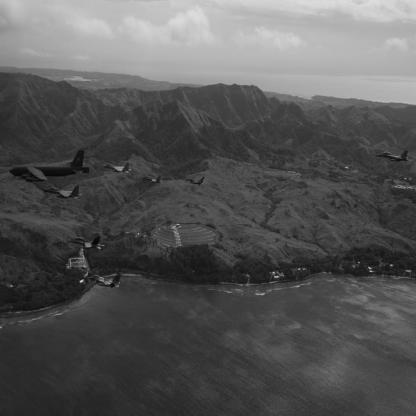B52: (10, 150, 93, 184)
F15: (44, 185, 84, 201), (102, 163, 133, 175)
F16: (88, 274, 124, 290), (186, 177, 207, 187)
F18: (68, 236, 107, 251), (141, 176, 166, 186)
